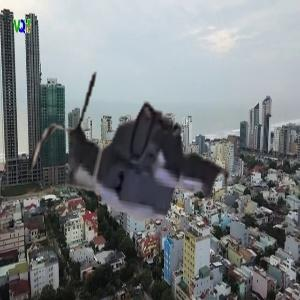drone: (25, 65, 244, 284)
